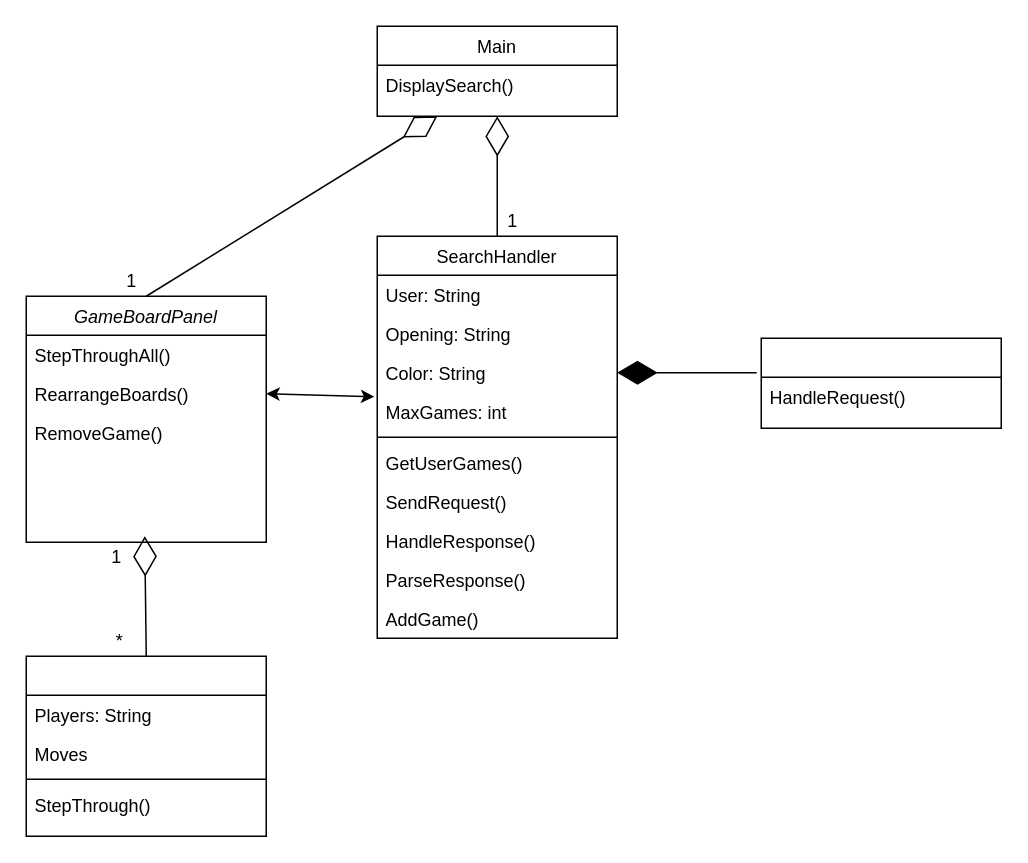
This 1028x863 diagram has some shape labels left out. Each missing label, with the box of its shape:
Game Board: (25, 655, 266, 836)
Lichess API: (760, 337, 1001, 428)
